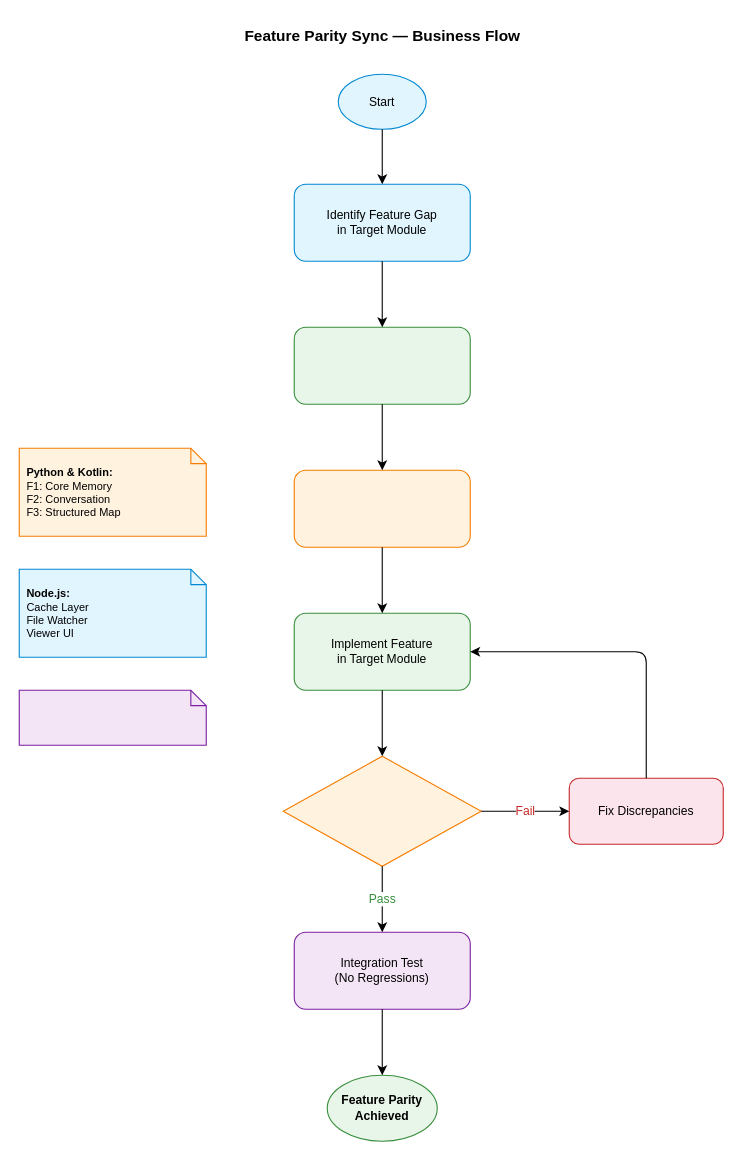
Some shapes in this 743 by 1161 pixel diagram are drawn without their labels. Each missing label, with the centre of its shape:
Analyze Reference Implementation: point (381, 365)
Design Port Strategy (Follow Target Patterns): point (381, 508)
Kotlin: Nested Detection: point (112, 717)
Validate Parity (Compare with Reference): point (381, 810)
